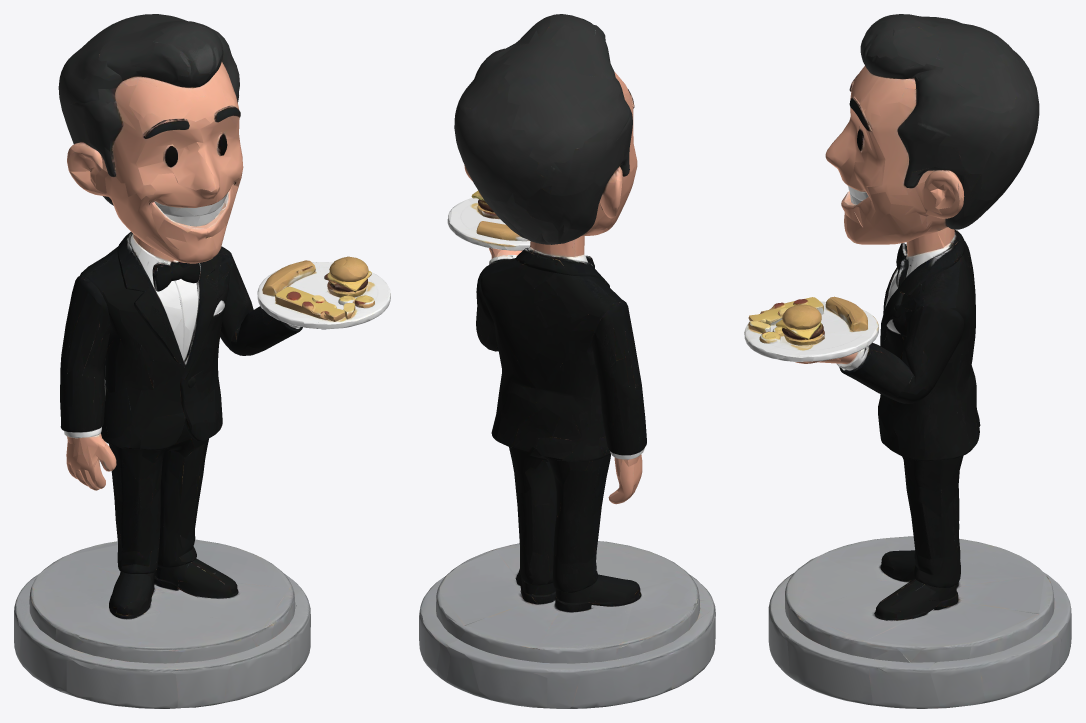
The model's file is lilbits.glb.
The picture shows the model from 3 angles, left to right: view 1: azimuth 30°, elevation 25°; view 2: azimuth 150°, elevation 25°; view 3: azimuth 270°, elevation 25°; orthographic projection. The views are drawn at different scales.
Size of the model in its own units: 0.9375 by 1.9 by 0.8913.
1 material, 1 textured.
